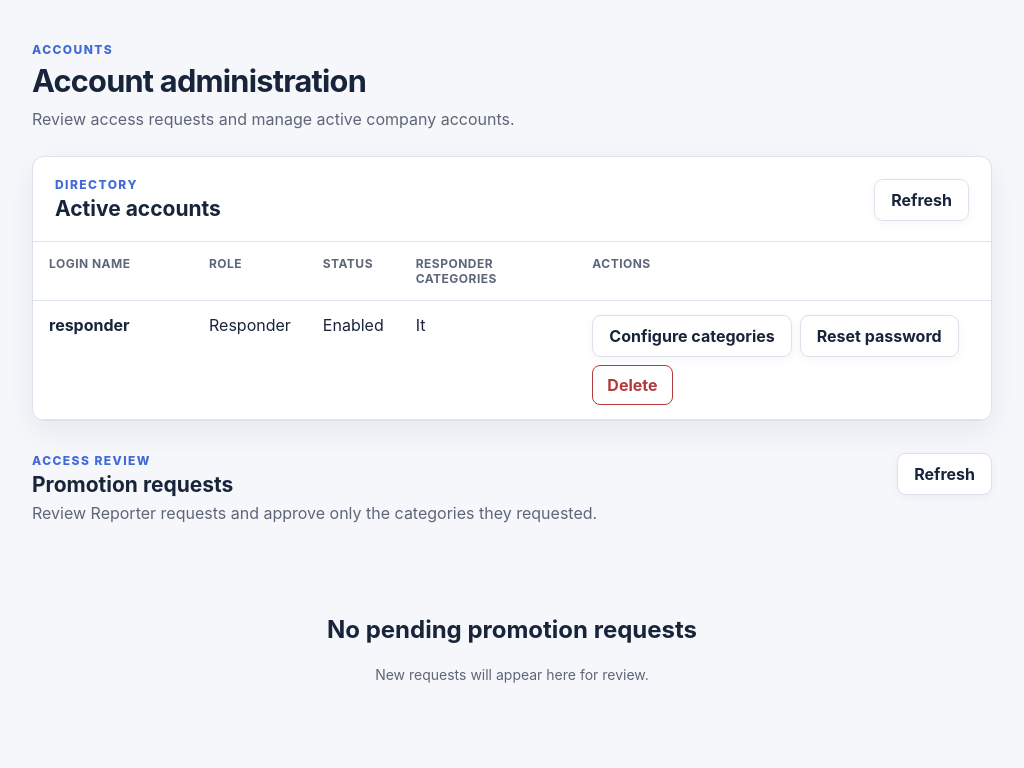
Test case: Administrator account directory › keeps the popup open and explains how to recover from a stale account version
Step 1. Click the button with aria-label "Configure categories for responder" → [692, 336], box [592,315,792,357]
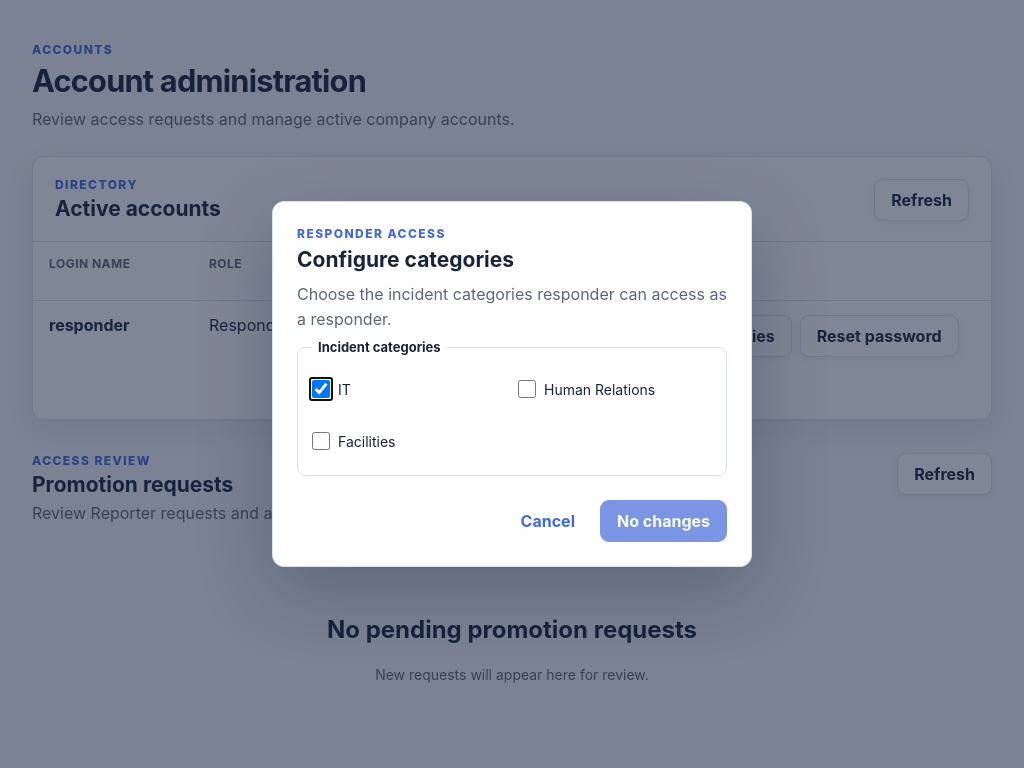
Step 2. Click the checkbox labelled "Facilities" → [321, 441], box [312,432,330,450]
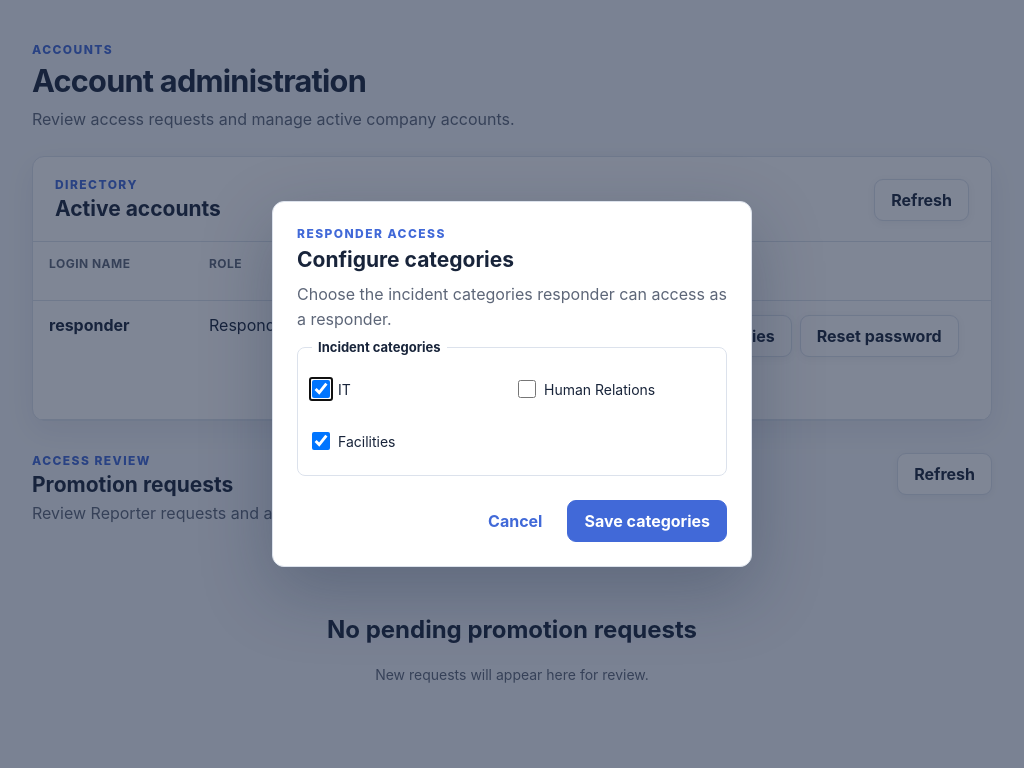
Step 3. Click the button "Save categories" → [647, 521], box [568,500,727,542]
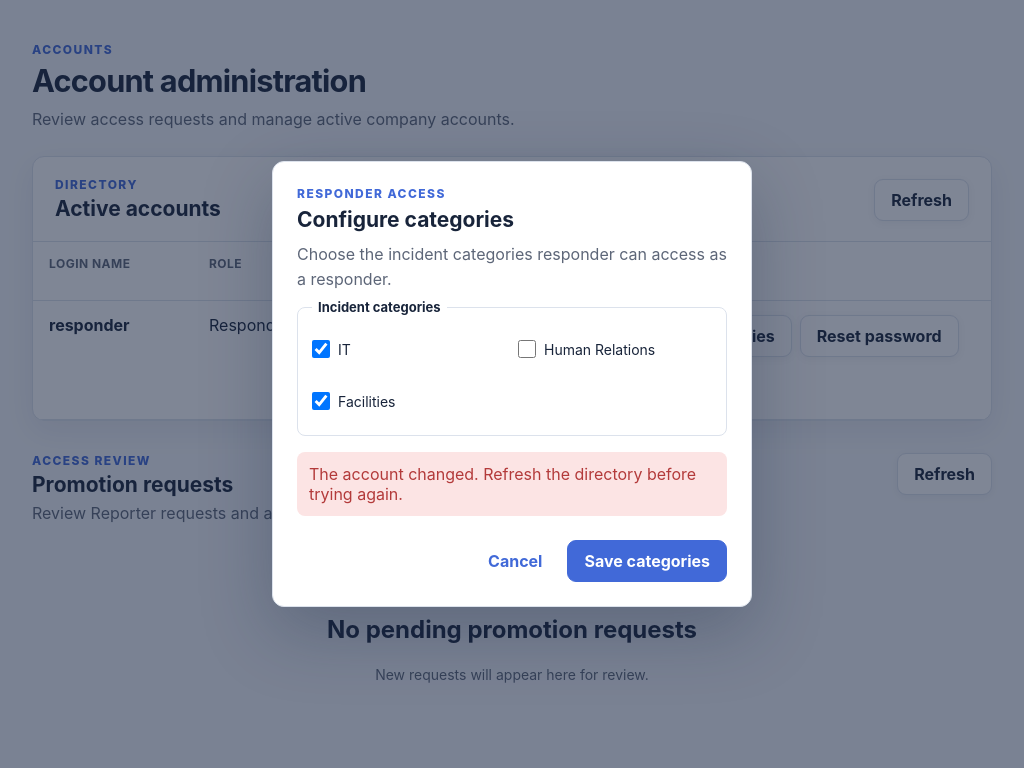
Check: the dialog "Configure categories" is shown, box [272,161,752,607]
Check: the message reads "The account changed. Refresh the directory before trying again.", box [309,464,696,504]
